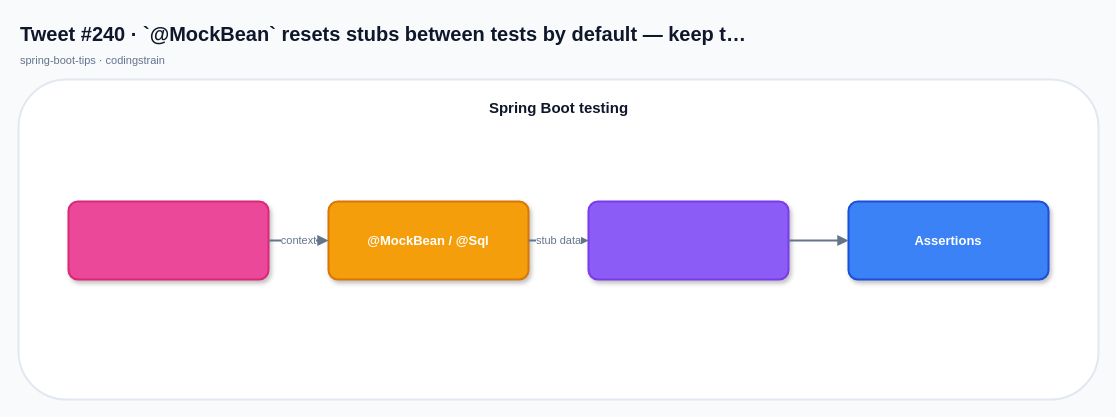
Some shapes in this 1116 by 417 pixel diagram are drawn without their labels. Each missing label, with the centre of its shape:
"@SpringBootTest" belongs at point 169,241.
"Component under test" belongs at point 689,241.
